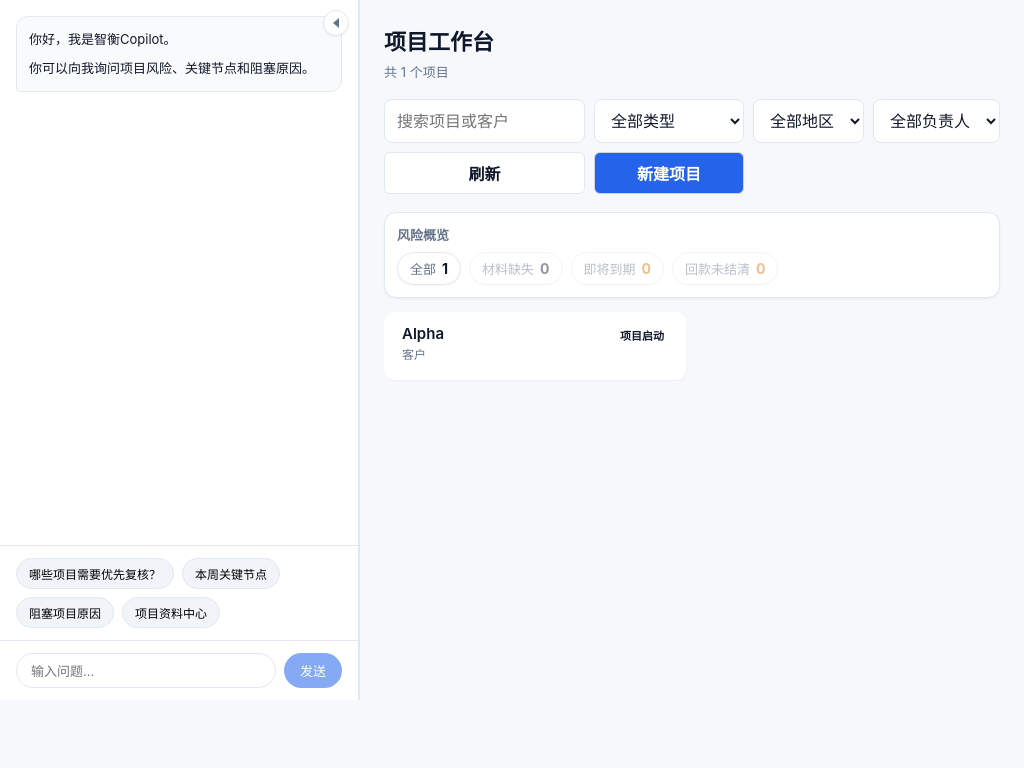
it: 页面 › RiskBoard 容忍风险批量失败并处理列表错误
This screenshot has width=1024, height=768.
Expected: the text "Alpha" is shown, x1=402 y1=324 x2=444 y2=343
Step 1. Click the button "刷新" → (484, 173), box x1=384 y1=152 x2=585 y2=194
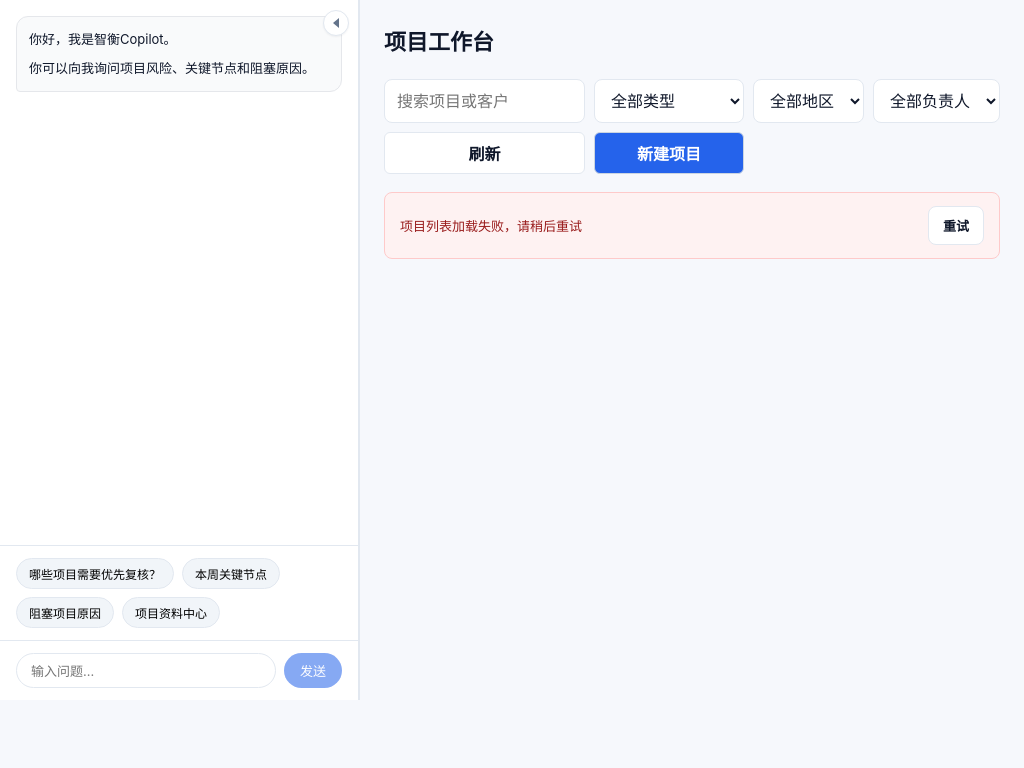
Expected: the text "项目列表加载失败，请稍后重试" is shown, x1=400 y1=216 x2=582 y2=235
